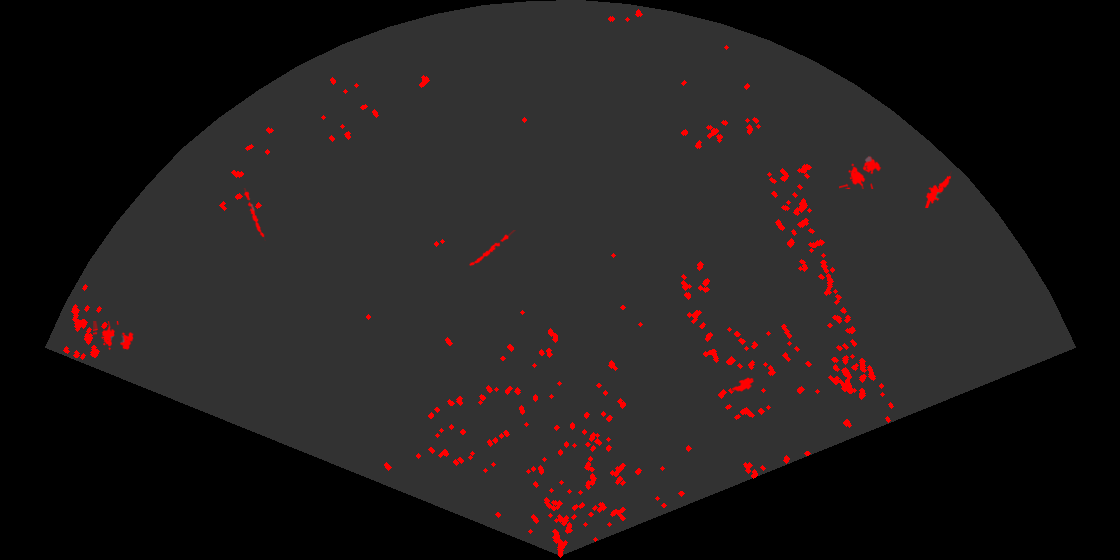AUV: (730, 376, 756, 393)
cage: (839, 155, 883, 189), (93, 321, 135, 352)
chain: (468, 230, 516, 268), (242, 188, 267, 241)
frogman: (924, 170, 952, 208)
